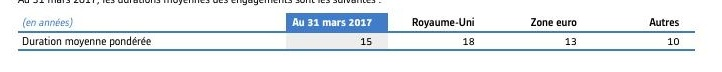table: (0, 0, 722, 72)
